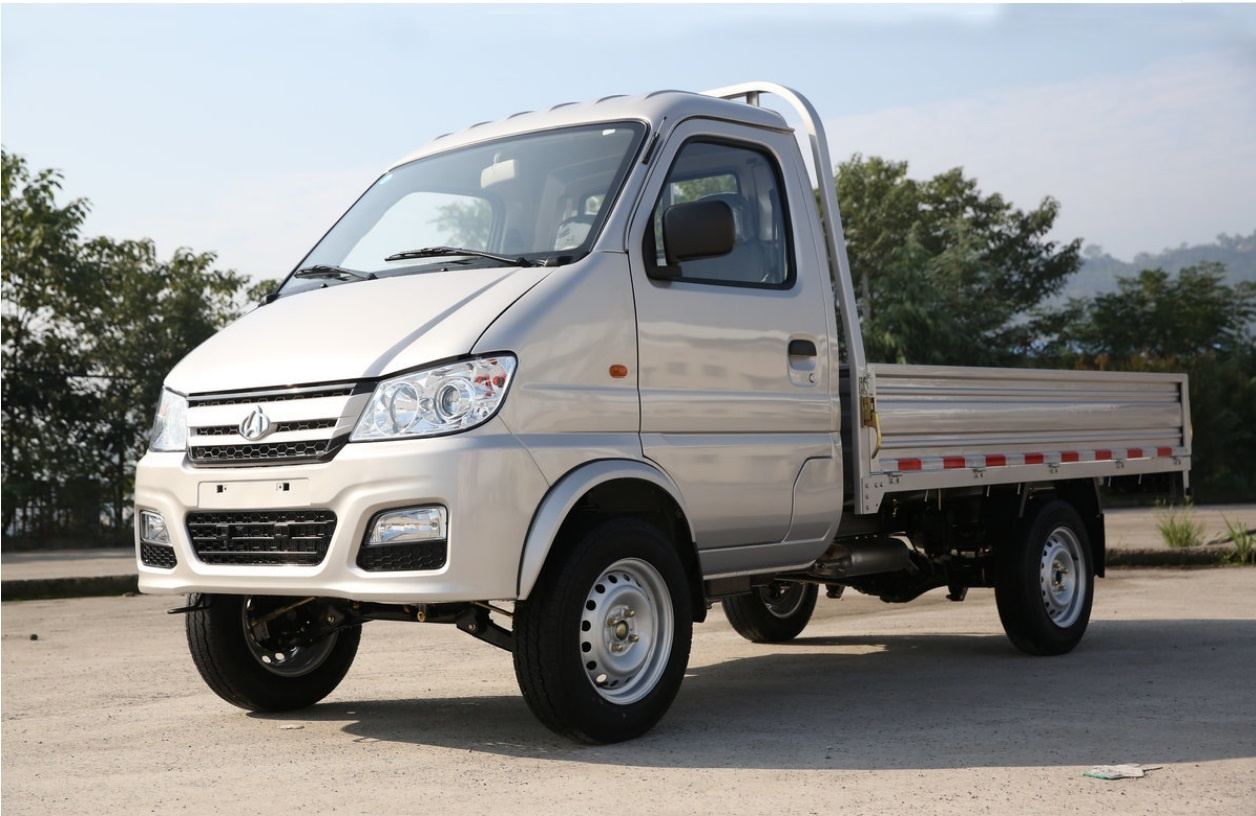truck: (121, 48, 1211, 711)
